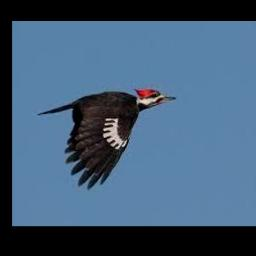Woodpecker: (37, 88, 174, 189)
